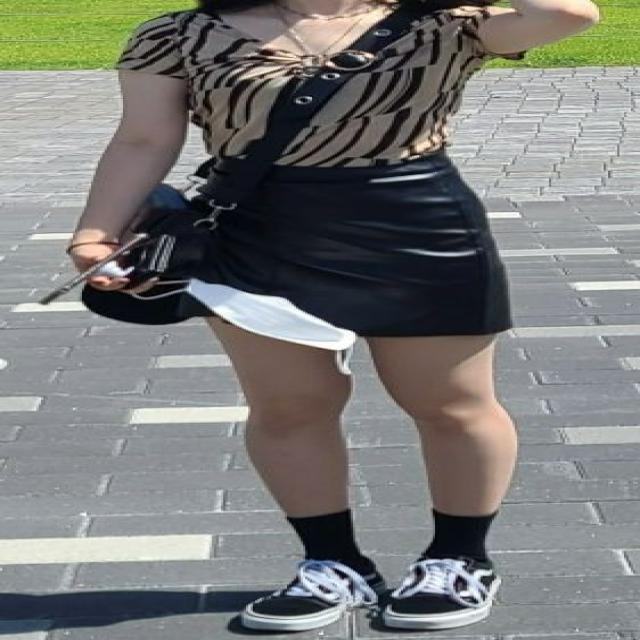shortsleeve: (126, 7, 522, 167)
skirt: (194, 155, 514, 337)
